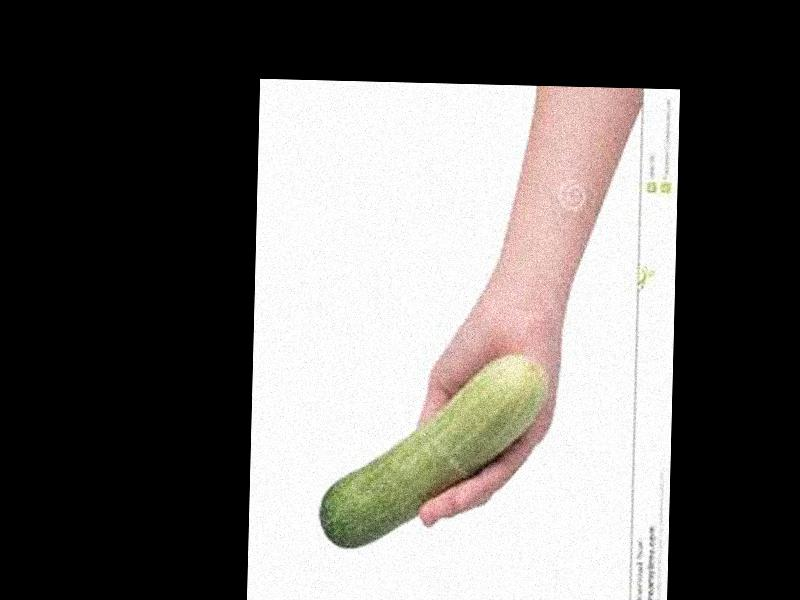Cucumber: (320, 350, 546, 550)
